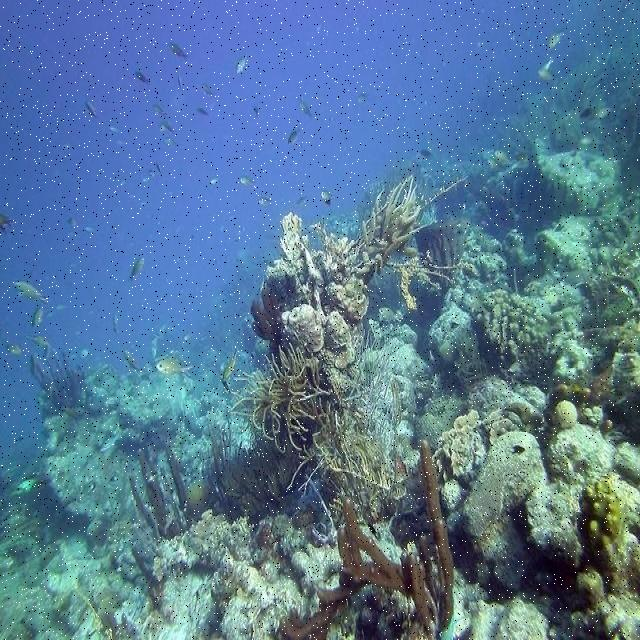aquatic plants: (207, 330, 400, 521), (283, 443, 454, 639), (350, 175, 467, 307), (132, 445, 189, 552)
fish: (155, 359, 191, 374)
